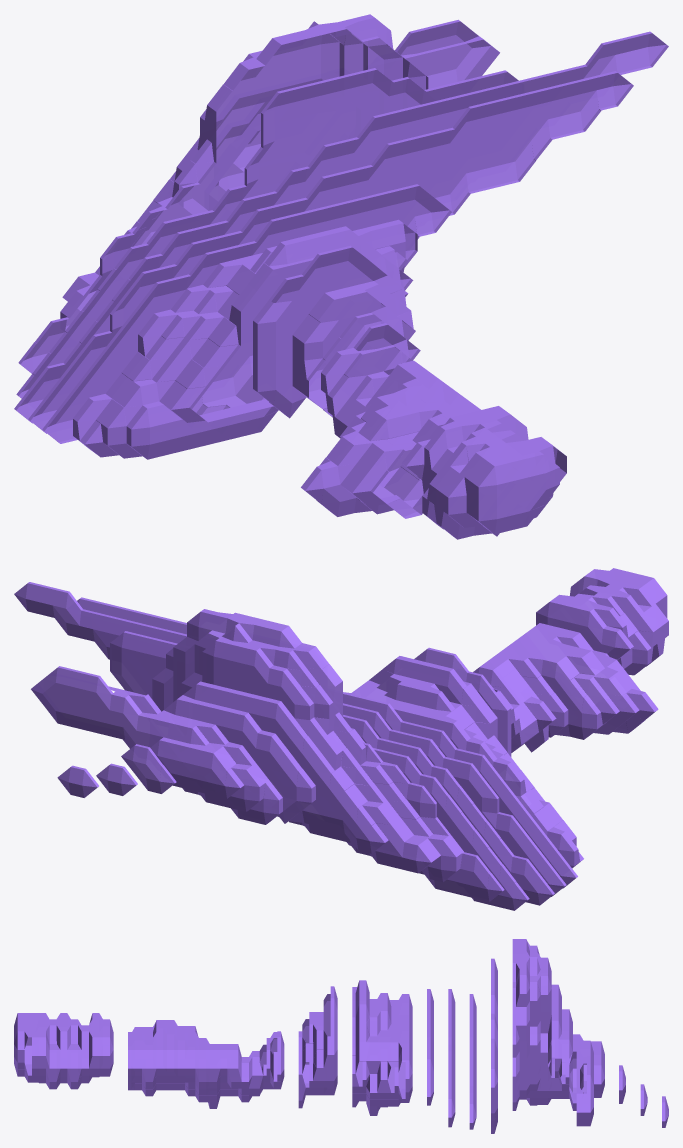
The model's file is SVV_BWM-DL03.gltf.
The picture shows the model from 3 angles, top to bottom: view 1: azimuth 30°, elevation 25°; view 2: azimuth 150°, elevation 25°; view 3: azimuth 270°, elevation 25°; orthographic projection. The views are drawn at different scales.
Parts seen in each view (by area): view 1: BWM-DL03; view 2: BWM-DL03; view 3: BWM-DL03.
Boxes of the visible parts, bbox=[...] form: BWM-DL03: bbox=[14, 14, 668, 539]; BWM-DL03: bbox=[14, 568, 668, 910]; BWM-DL03: bbox=[14, 939, 668, 1133].
Bounding box in the file's own units: 20490 × 8703 × 23564.
